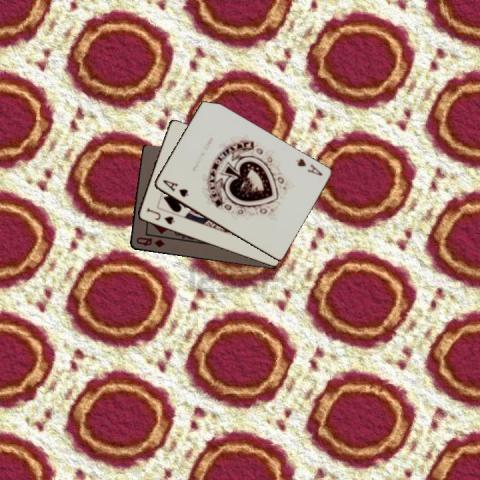As: (159, 176, 190, 198), (293, 156, 323, 177)
Js: (143, 205, 176, 226)
Qd: (133, 234, 166, 249)
